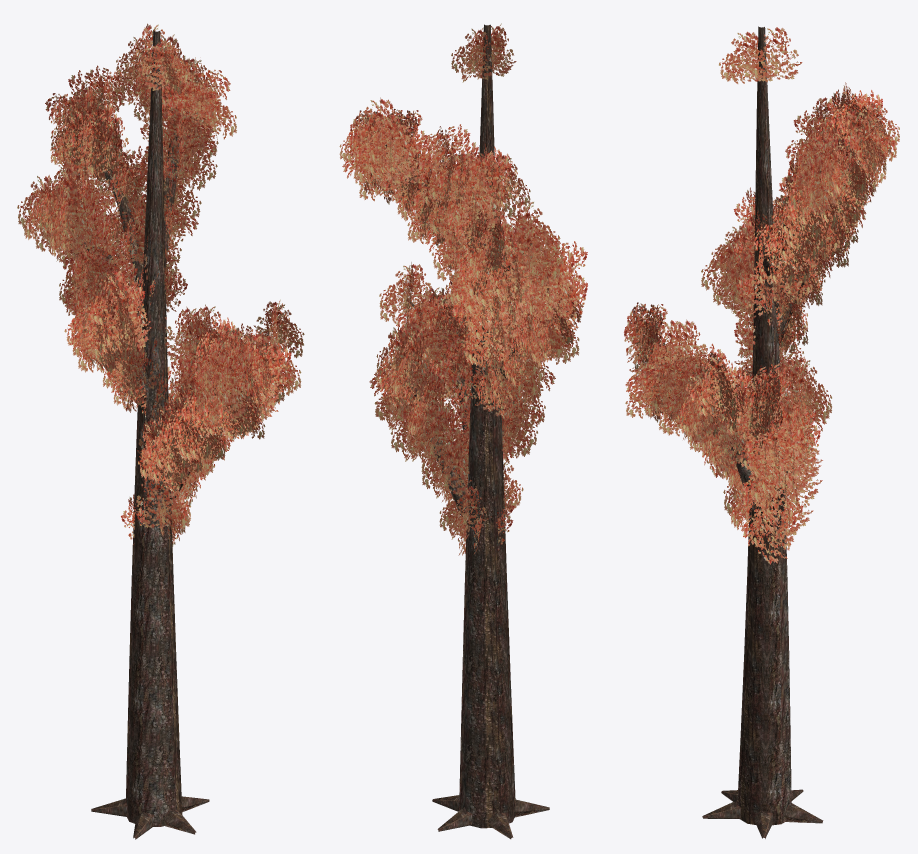
Rendered from tree_3d_02_copper_lod0.glb.
3 renders of one model, left to right at view 1: azimuth 30°, elevation 25°; view 2: azimuth 150°, elevation 25°; view 3: azimuth 270°, elevation 25°, orthographic.
Visible parts, largest first — view 1: foliage_cards, wood_geometry; view 2: foliage_cards, wood_geometry; view 3: foliage_cards, wood_geometry.
Part boxes in pixels (left/top/right/bottom): foliage_cards: left=17, top=23, right=304, bottom=546; wood_geometry: left=59, top=30, right=270, bottom=839; foliage_cards: left=339, top=23, right=587, bottom=555; wood_geometry: left=384, top=24, right=549, bottom=839; foliage_cards: left=624, top=27, right=899, bottom=564; wood_geometry: left=656, top=26, right=871, bottom=838.
Bounding box in the file's own units: 3.82 × 12.59 × 4.1.
Materials: 2 (2 with a texture image).
